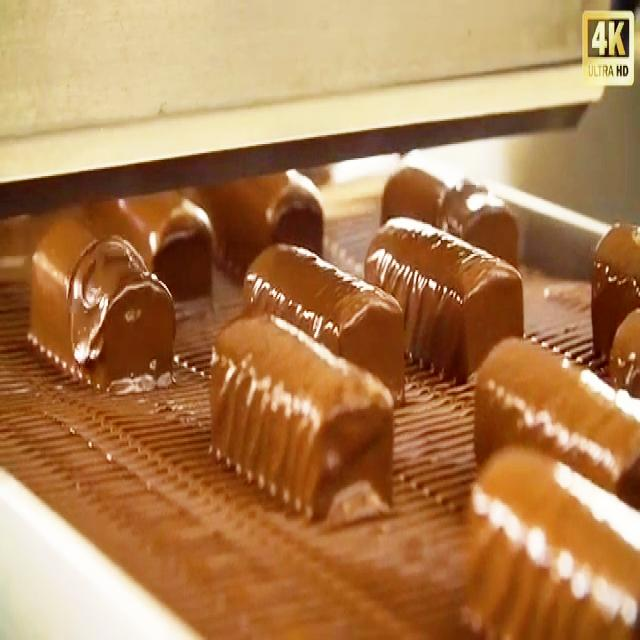Choco: (206, 308, 396, 522), (458, 432, 639, 640), (474, 308, 640, 502), (24, 207, 174, 396), (363, 210, 524, 380), (381, 149, 516, 290), (121, 198, 221, 310), (224, 176, 326, 282), (586, 201, 640, 383)
